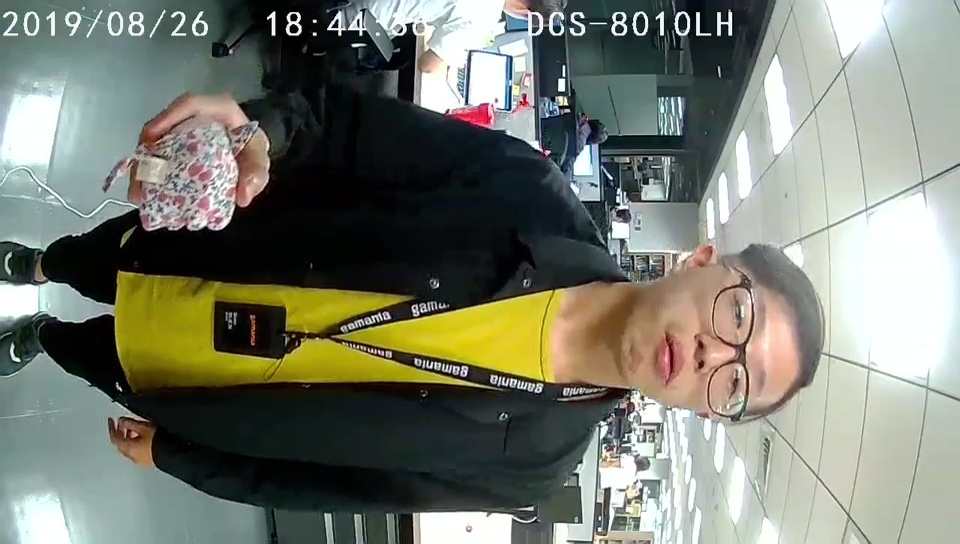pig: (136, 117, 263, 233)
